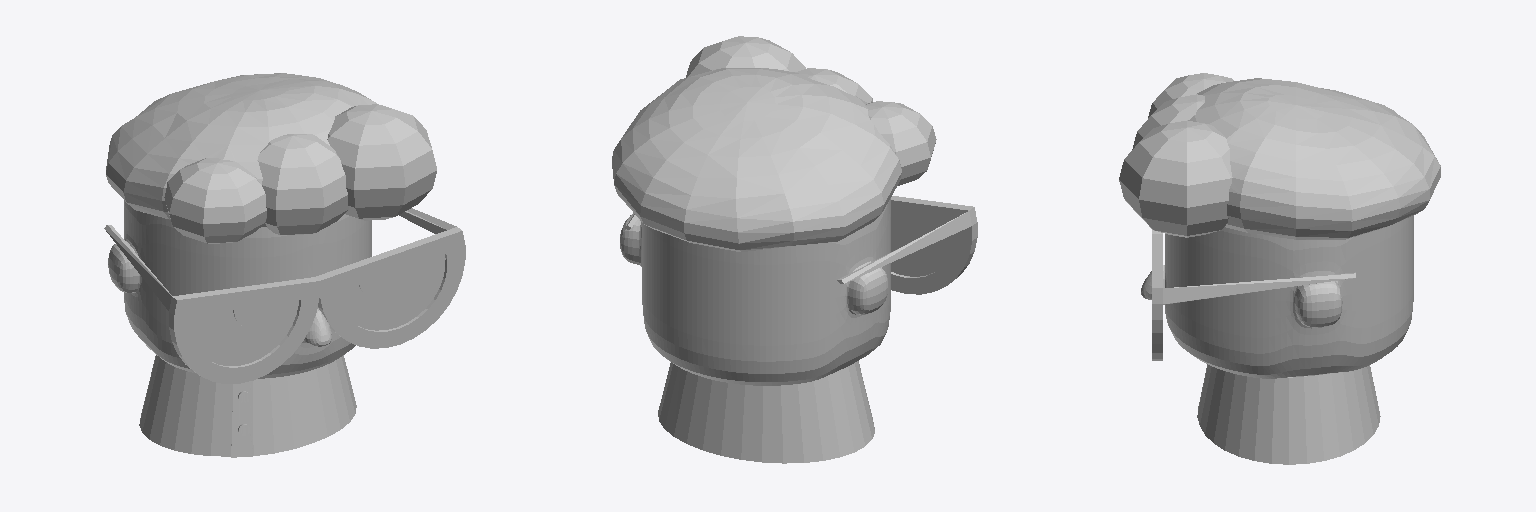
File: DexterBody.obj
3 views of the same model, side by side, from view 1: azimuth 30°, elevation 25°; view 2: azimuth 150°, elevation 25°; view 3: azimuth 270°, elevation 25° (orthographic).
Parts seen in each view (by area): view 1: Cylinder_001; view 2: Cylinder_001; view 3: Cylinder_001.
Part boxes in pixels (x1,y1,x2,y2): Cylinder_001: (104,73,465,457); Cylinder_001: (612,36,977,463); Cylinder_001: (1119,73,1440,464).
Bounding box in the file's own units: 2.56 × 2.72 × 2.45.